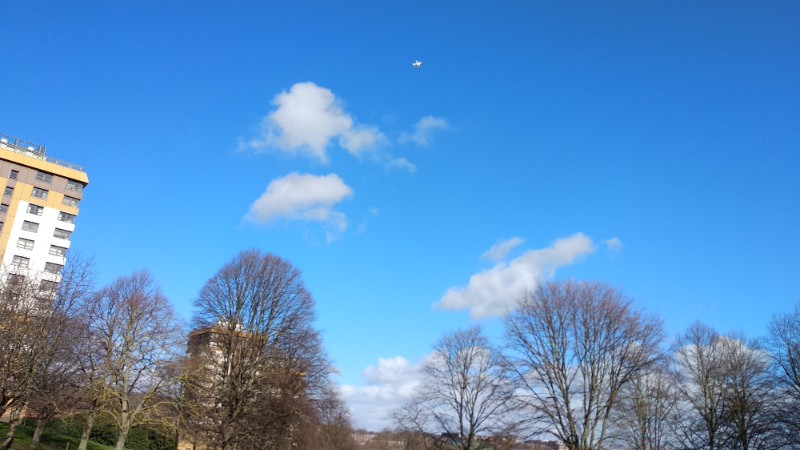drone: (410, 59, 422, 68)
